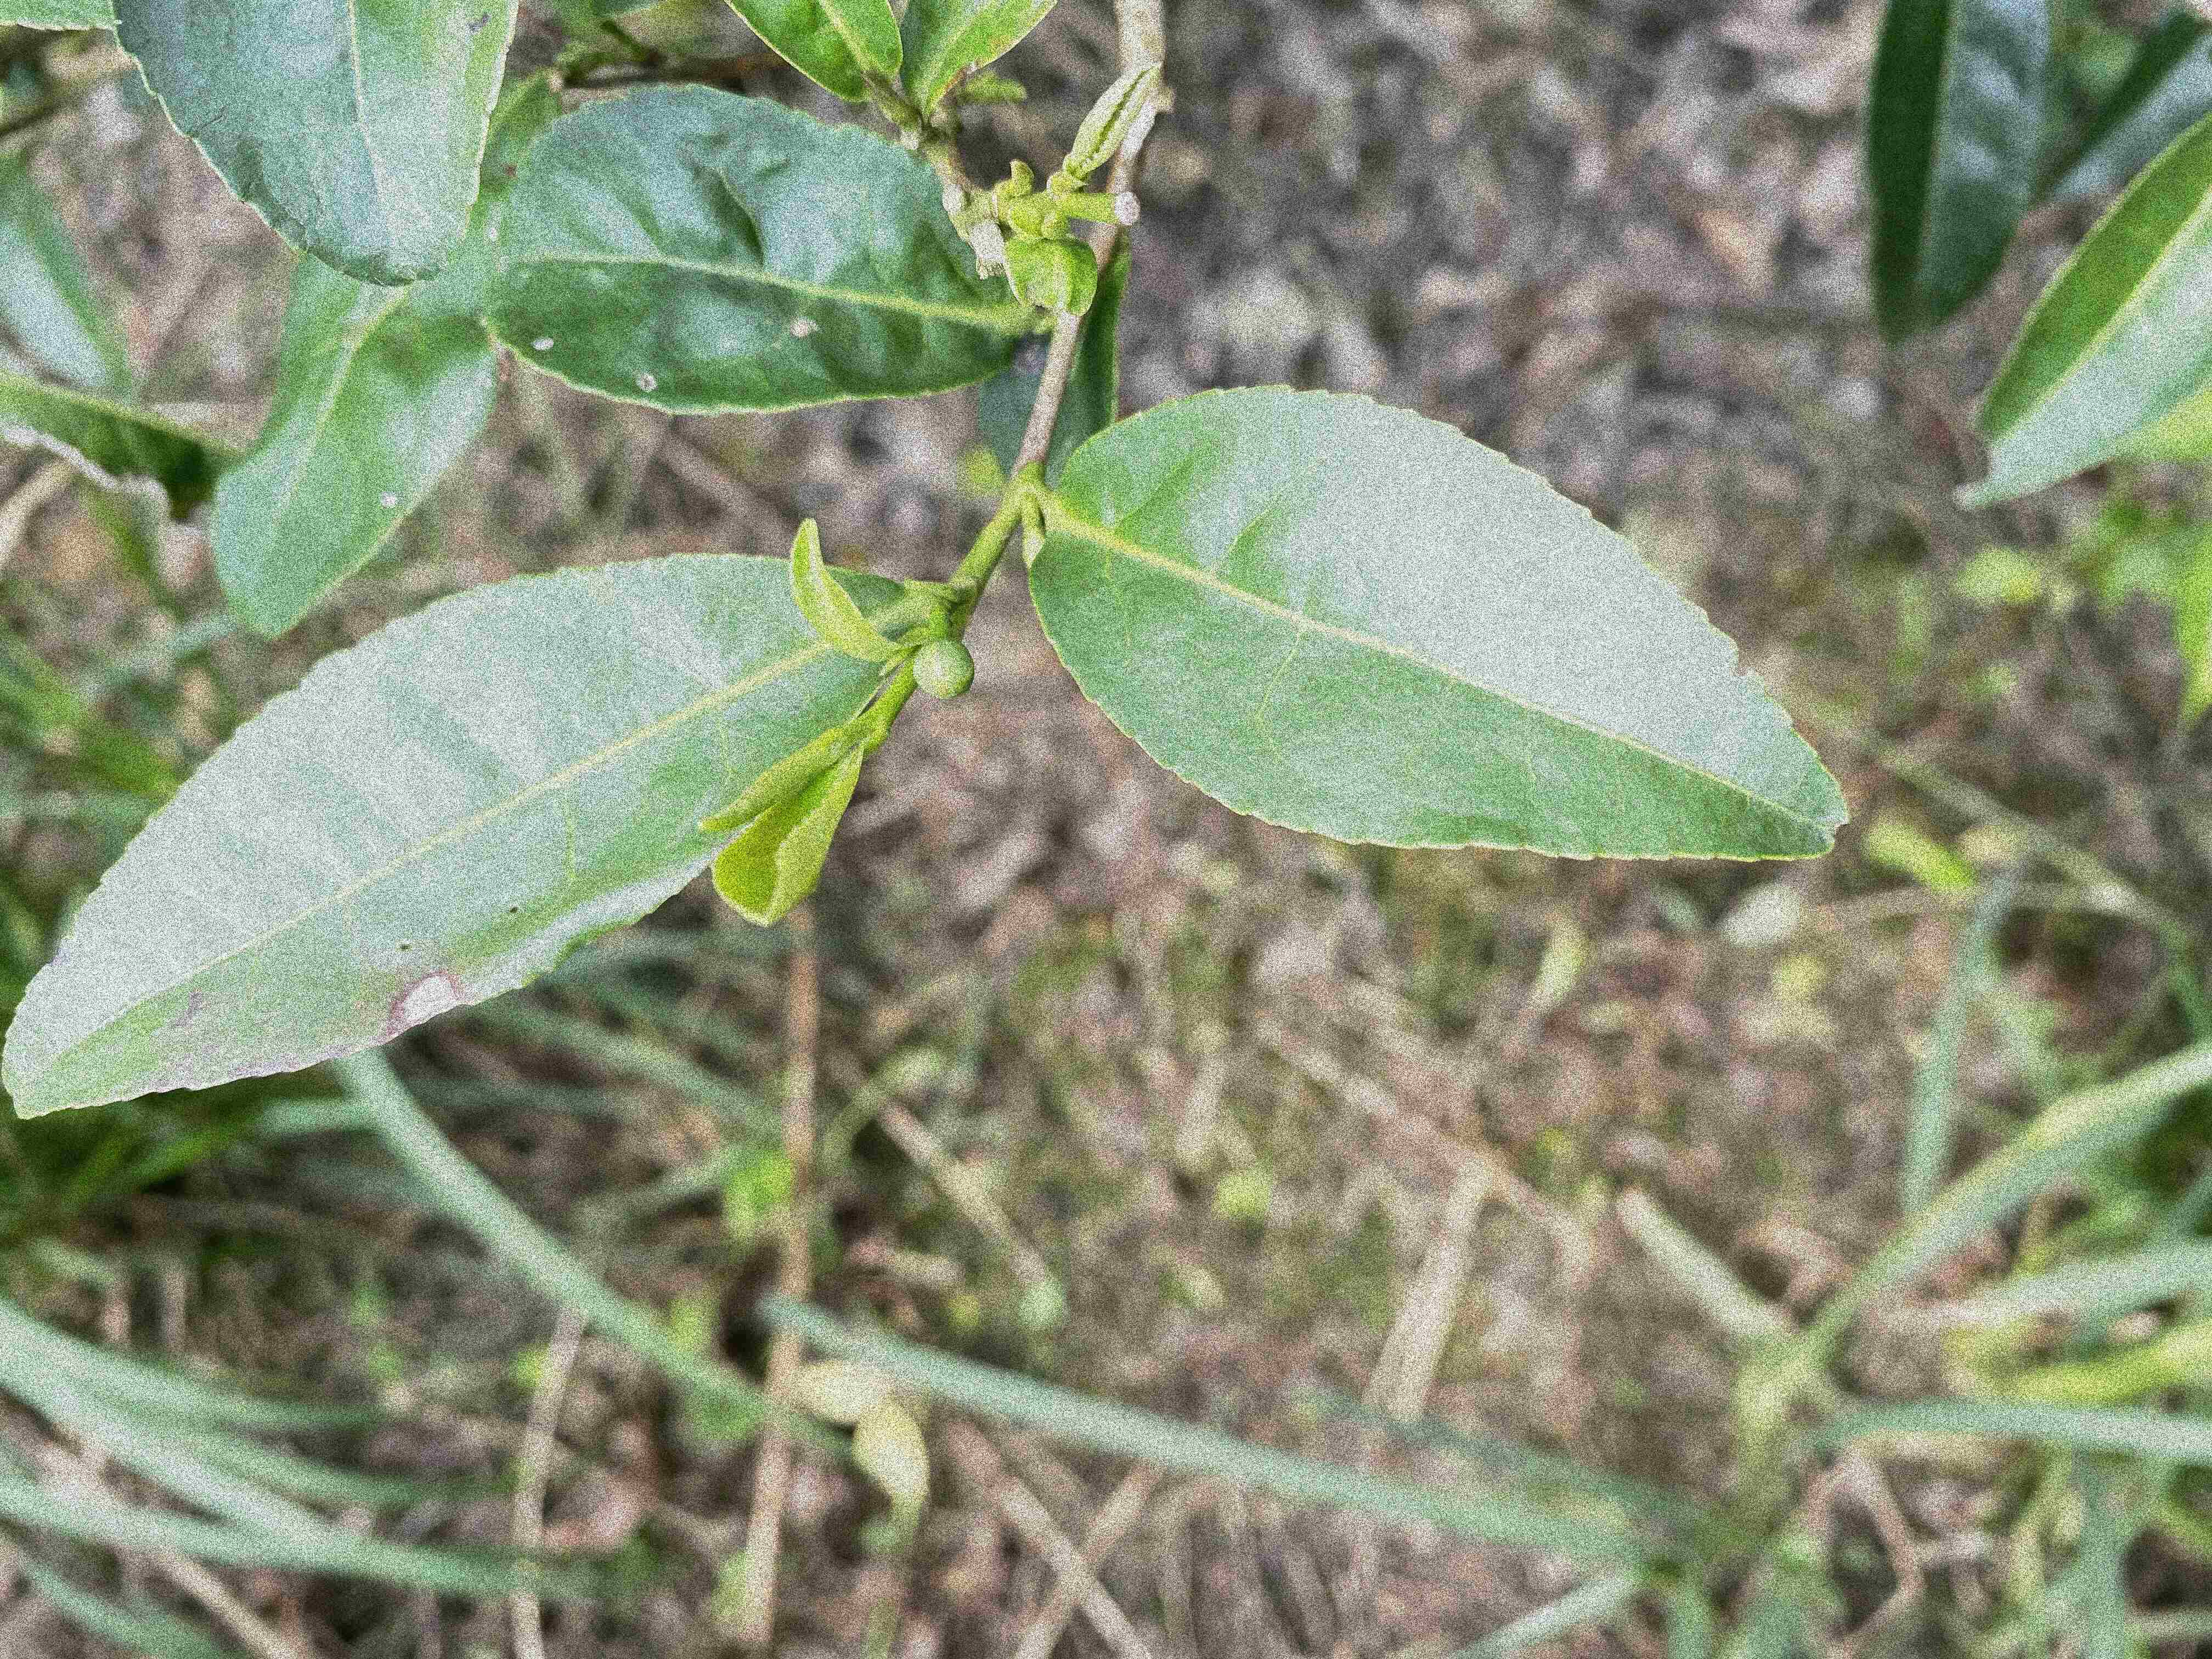chihuo_low: (1952, 115, 2212, 512)
healthy: (1028, 380, 1848, 861)
tanju_high: (2, 552, 923, 1119)
tanju_low: (481, 80, 1042, 420), (108, 3, 524, 284), (209, 267, 505, 641)
